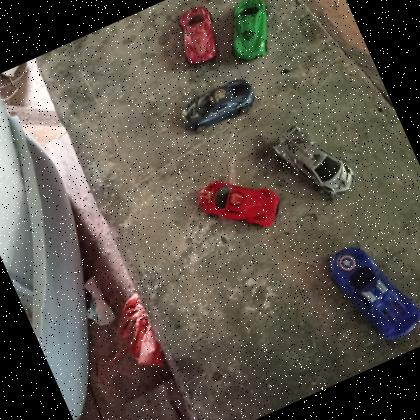Car: (320, 228, 420, 356), (266, 108, 363, 214), (191, 158, 290, 250), (175, 73, 262, 139), (213, 0, 286, 67), (165, 0, 229, 70)
